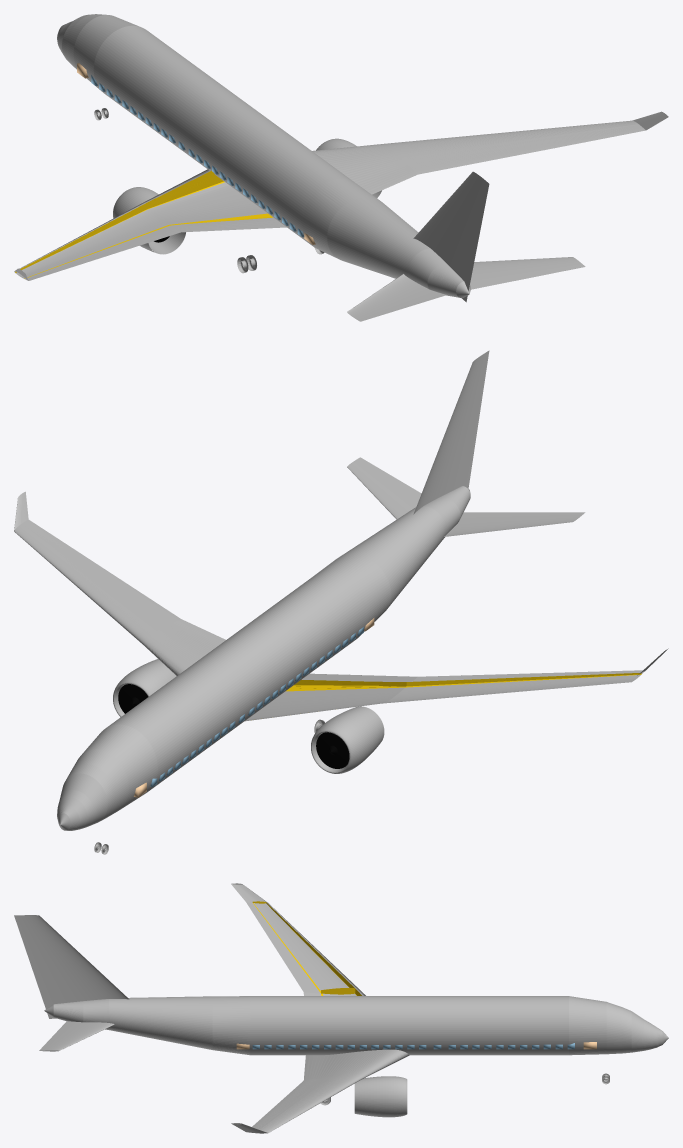
File: Airbus_A220_100.gltf
The picture shows the model from 3 angles, top to bottom: view 1: azimuth 30°, elevation 25°; view 2: azimuth 150°, elevation 25°; view 3: azimuth 270°, elevation 25°; orthographic projection. The views are drawn at different scales.
Visible parts, largest first — view 1: Renderer Node; view 2: Renderer Node; view 3: Renderer Node.
Boxes of the visible parts, x1,y1,x2,y2 form: Renderer Node: (14,14,668,321); Renderer Node: (14,350,668,854); Renderer Node: (14,883,668,1133).
Bounding box in the file's own units: 35.1 × 11.85 × 40.56.
